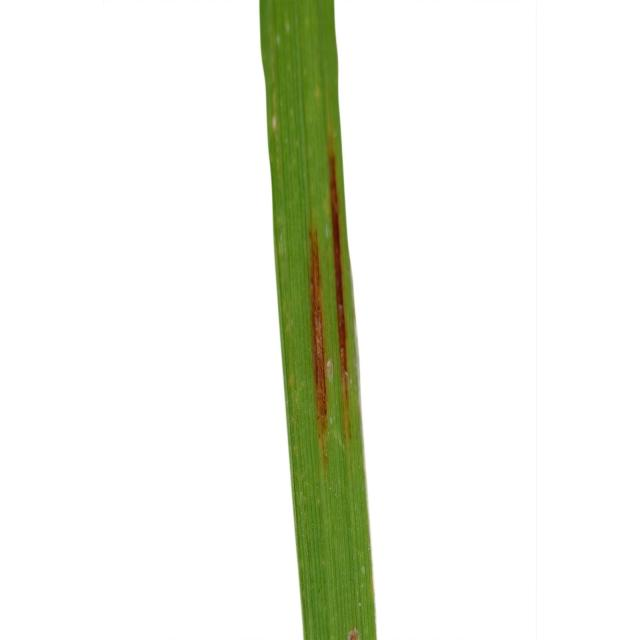Narrow brown: (238, 1, 408, 640)
